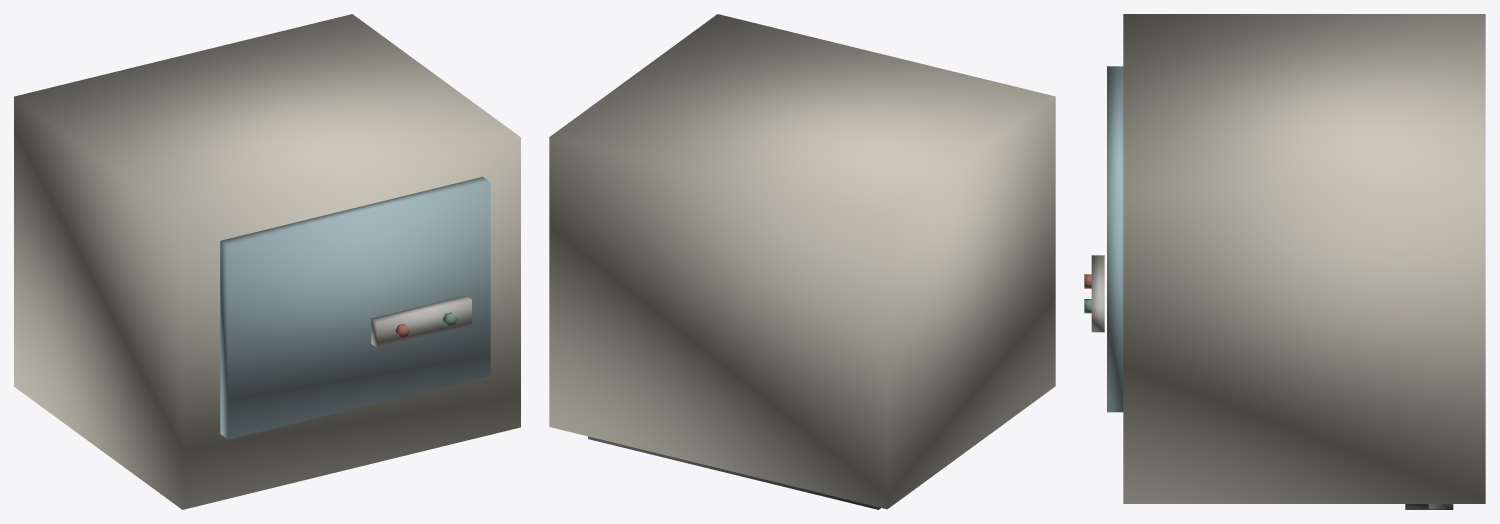
Rendered from crt_monitor__reinforced.glb.
3 views of the same model, side by side, from view 1: azimuth 30°, elevation 25°; view 2: azimuth 150°, elevation 25°; view 3: azimuth 270°, elevation 25° (orthographic). The views are drawn at different scales.
Visible parts, largest first — view 1: world; view 2: world; view 3: world.
Boxes of the visible parts, x1=… form: world: x1=14, y1=14, x2=520, y2=509; world: x1=549, y1=14, x2=1055, y2=509; world: x1=1084, y1=14, x2=1485, y2=509.
Size of the model in its own units: 0.5974 by 0.5304 by 0.5701.
